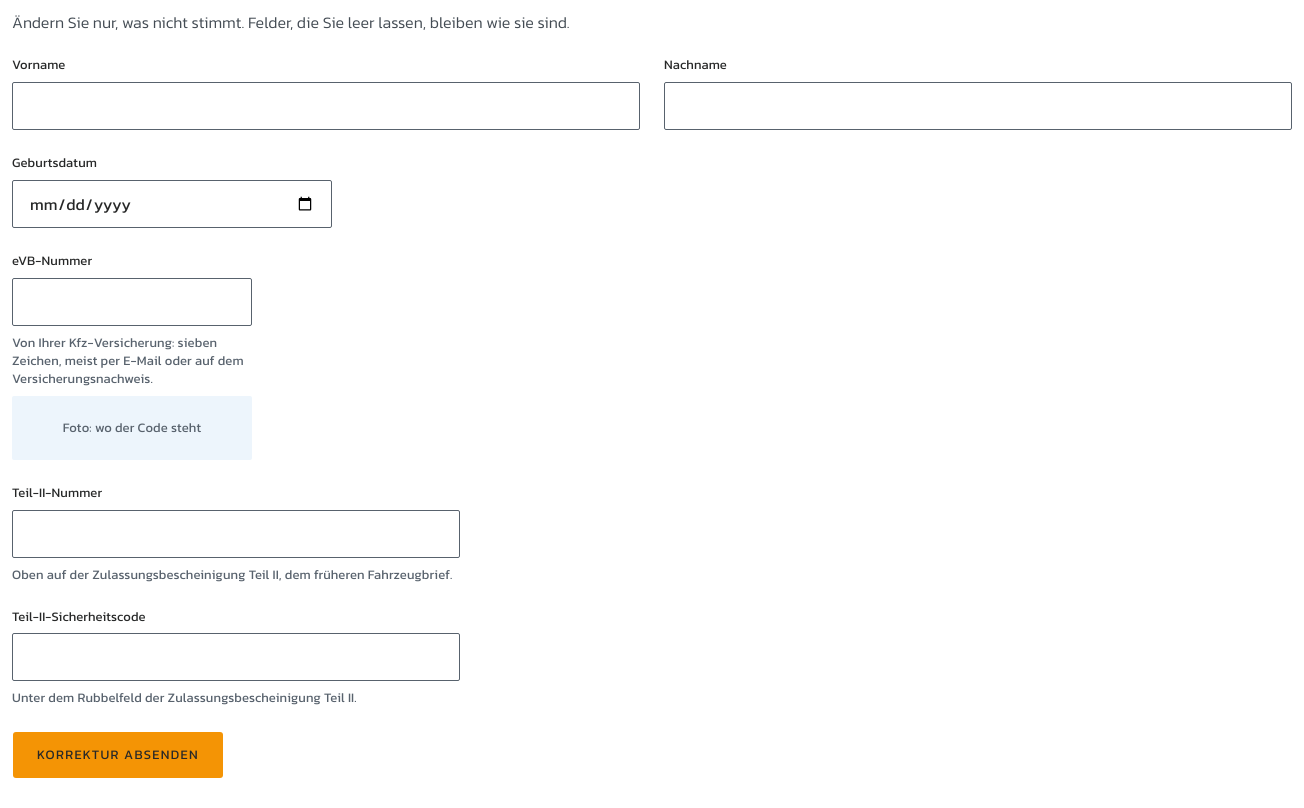
Test: CorrectNewRegistration › says the name still does not match, not that the authority refused, when the order is checked again and fails
Type "Beispiel" into the field labelled "Nachname".
click(978, 106); type("Beispiel")  # box [664,82,1292,130]
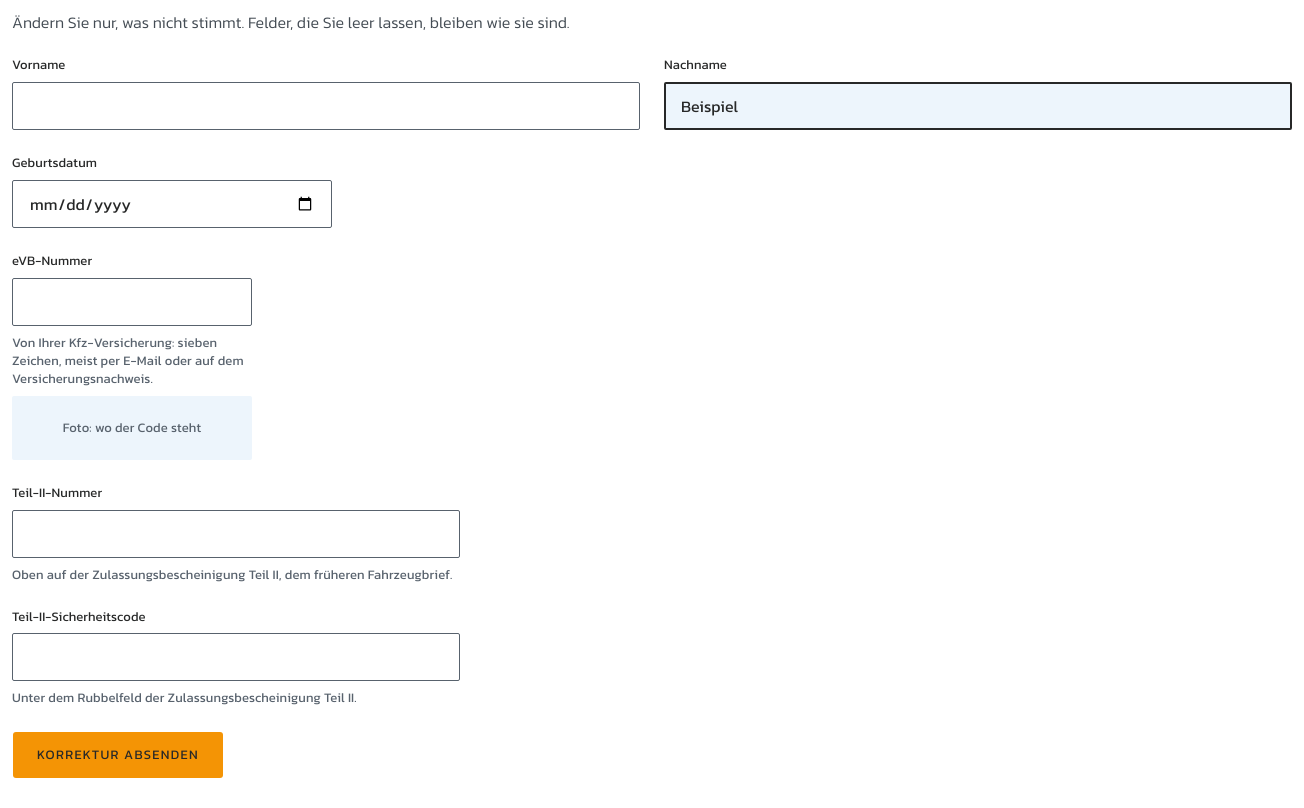
Click the button "Korrektur absenden".
click(118, 755)  # box [12,731,224,779]
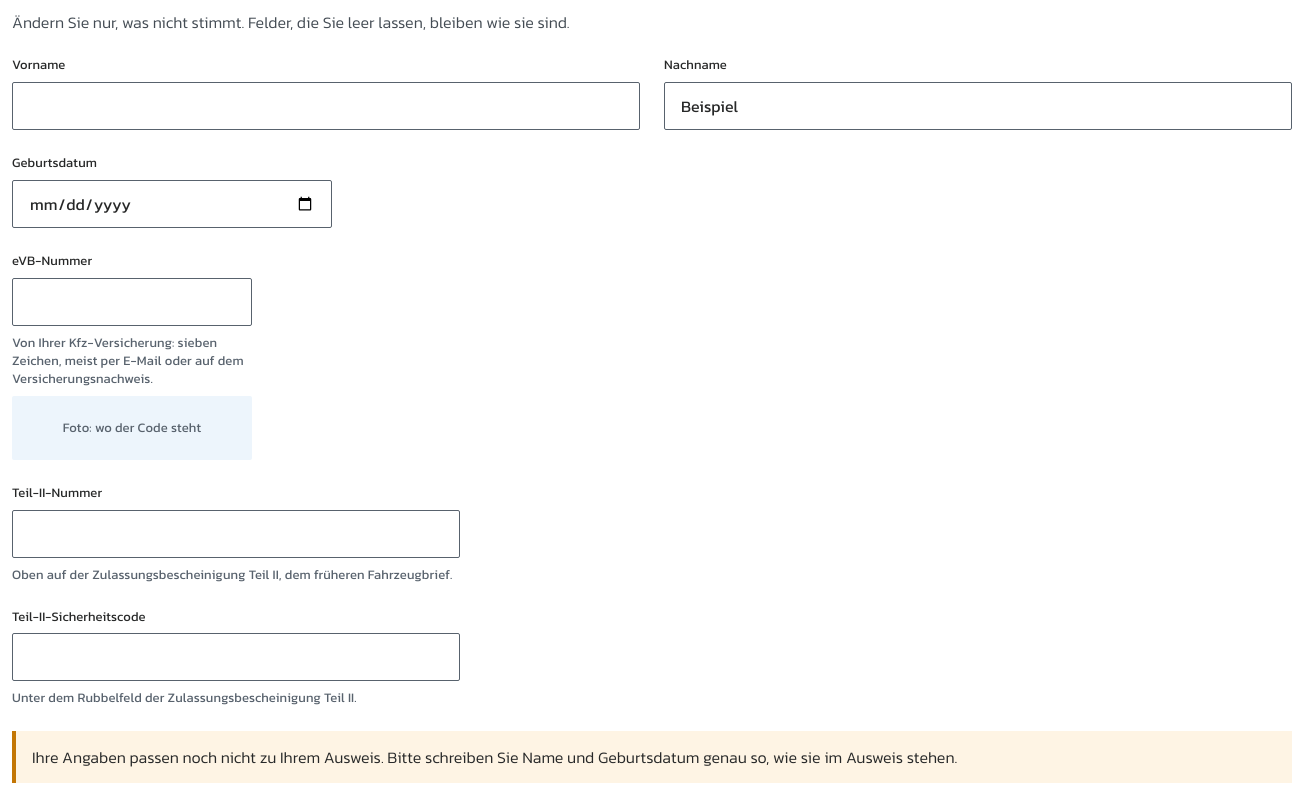
expect the message does not show "Zulassungsstelle": met, box [12,731,1292,783]
expect the message shows "Ausweis": met, box [32,745,957,769]
